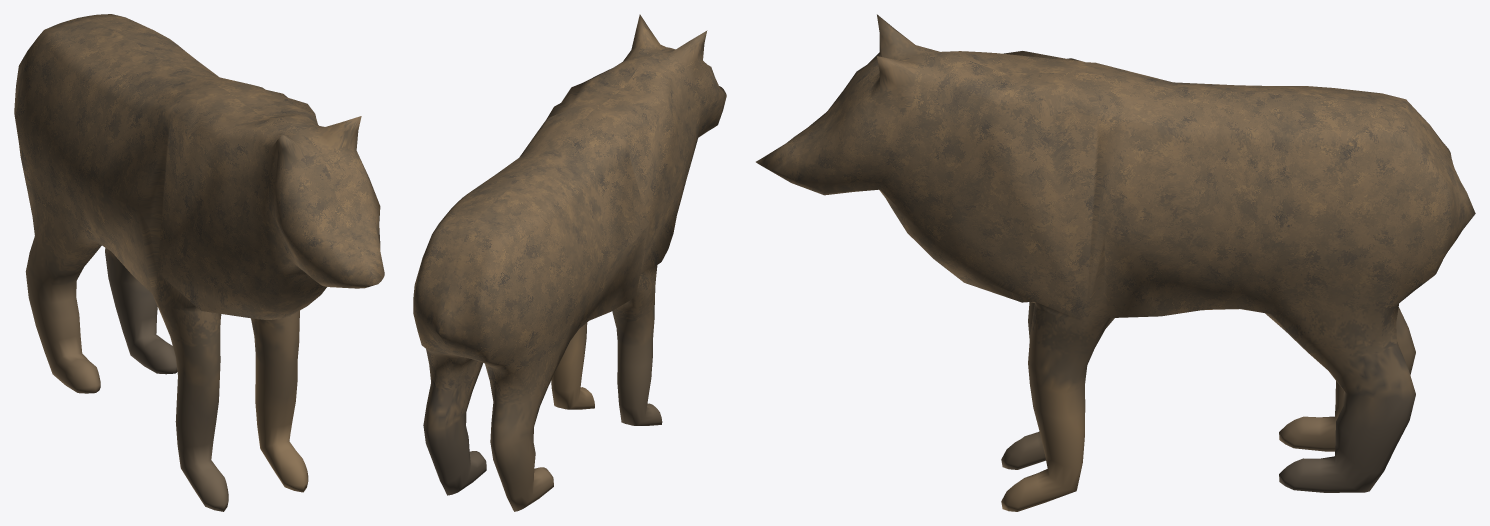
The model's file is piesblend_000036.obj.
3 renders of one model, left to right at view 1: azimuth 30°, elevation 25°; view 2: azimuth 150°, elevation 25°; view 3: azimuth 270°, elevation 25°, orthographic. The views are drawn at different scales.
Parts seen in each view (by area): view 1: Cube; view 2: Cube; view 3: Cube.
Boxes of the visible parts, x1=… form: Cube: x1=14, y1=14, x2=384, y2=511; Cube: x1=413, y1=14, x2=726, y2=511; Cube: x1=756, y1=14, x2=1475, y2=511.
Bounding box in the file's own units: 2.55 × 6.31 × 9.1.
1 material, 1 textured.
